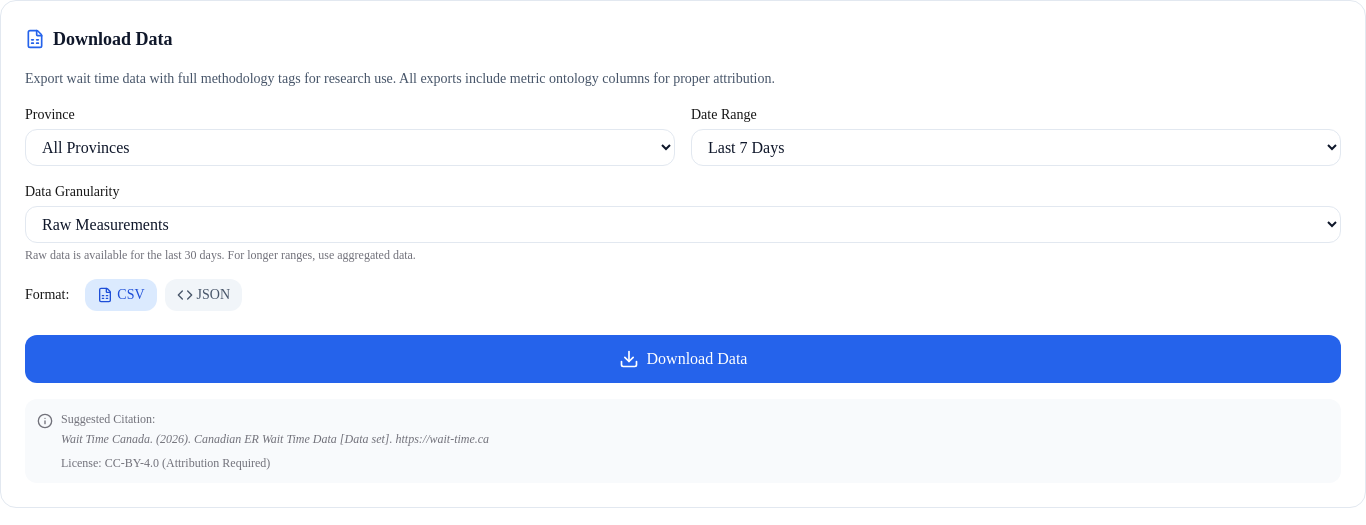
DataExport › granularity selector › shows aggregated help text when aggregate selected
The width and height of the screenshot is (1366, 525).
Select "Daily Averages" in the dropdown labelled "Data Granularity" at (683, 224), box [25, 206, 1341, 243]
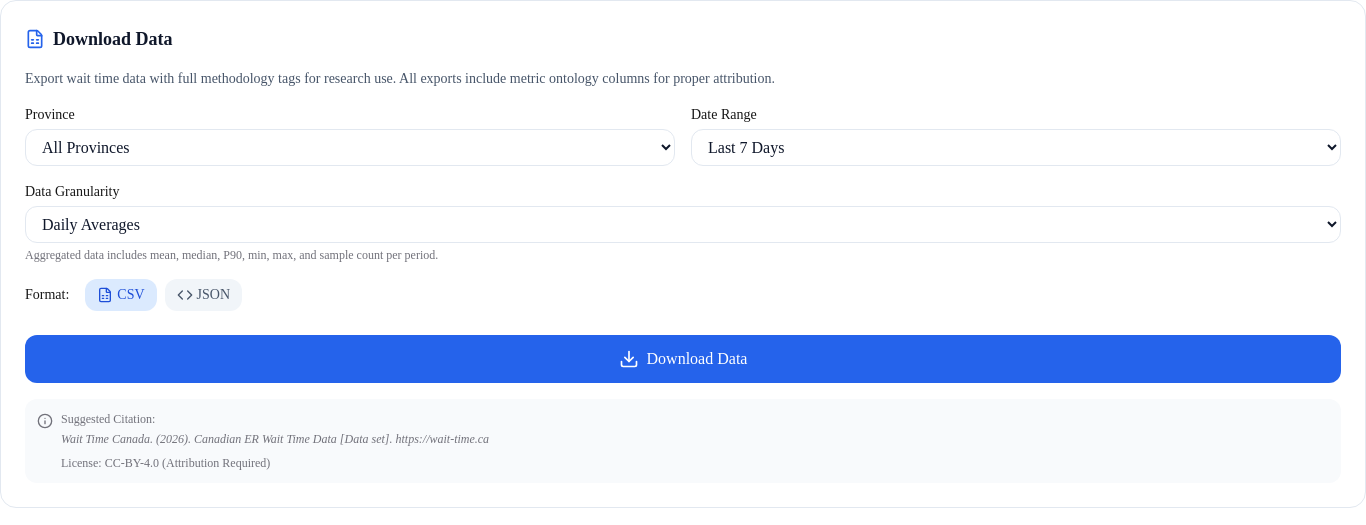
expect the text "Aggregated data includes mean, median, P90" is shown: met, box [25, 248, 438, 262]
